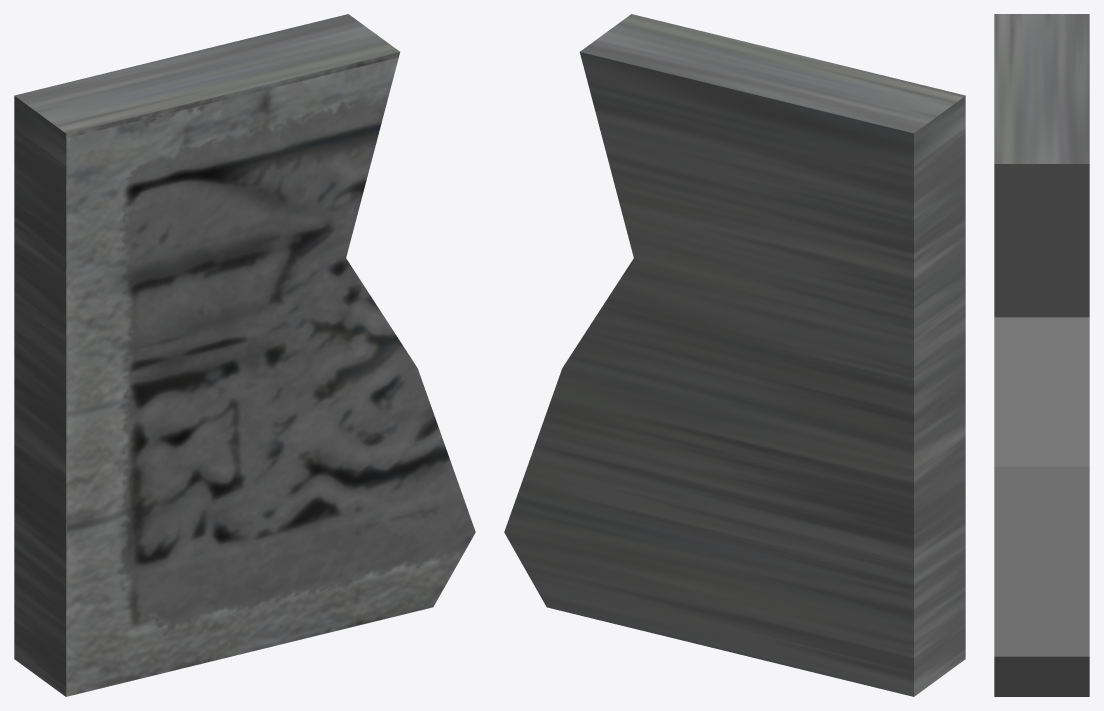
File: Relief2.fbx
The picture shows the model from 3 angles, left to right: view 1: azimuth 30°, elevation 25°; view 2: azimuth 150°, elevation 25°; view 3: azimuth 270°, elevation 25°; orthographic projection. The views are drawn at different scales.
Visible parts, largest first — view 1: Cube.009; view 2: Cube.009; view 3: Cube.009.
Part boxes in pixels (x1,y1,x2,y2): Cube.009: (14, 14, 475, 696); Cube.009: (504, 14, 965, 696); Cube.009: (994, 14, 1089, 696).
Bounding box in the file's own units: 183 × 240 × 40.
